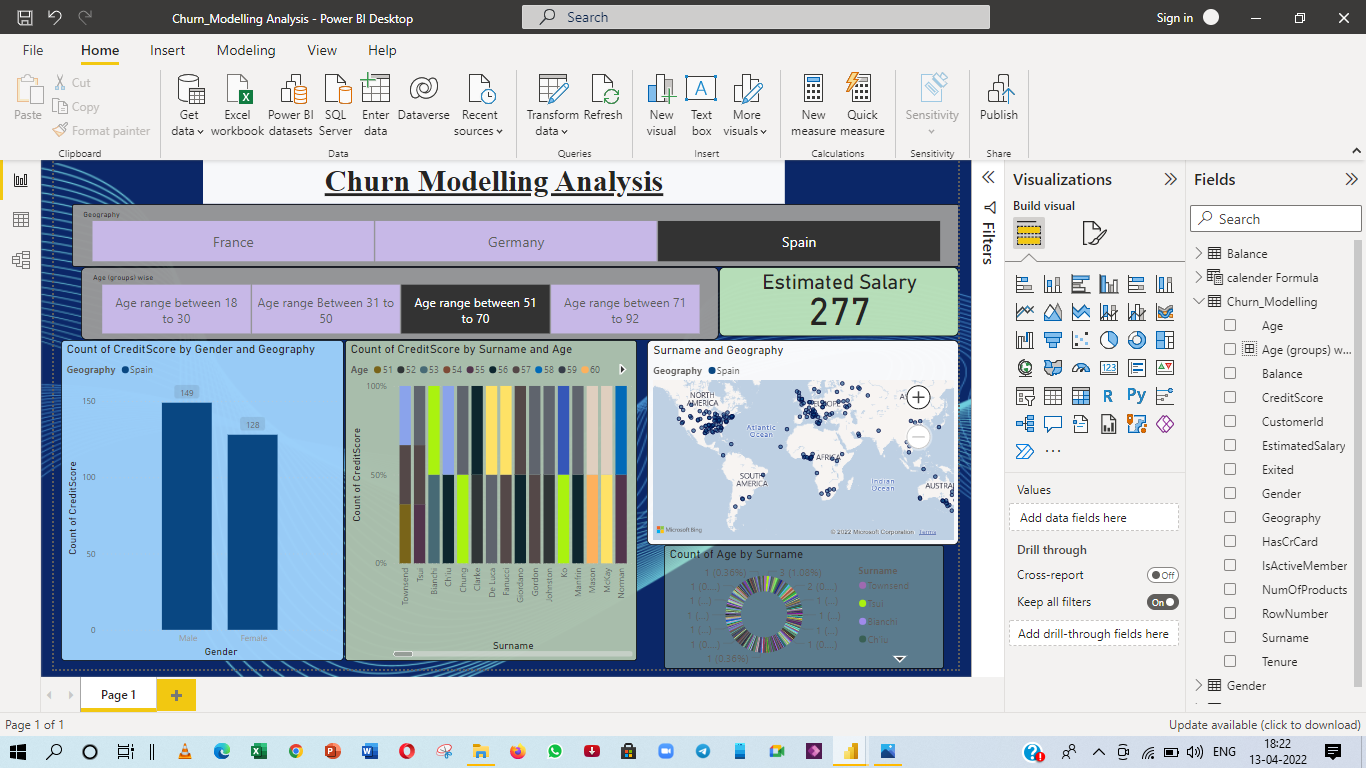

The page's visual inventory and layout, read from the dashboard file:
{"tool":"powerbi","page":{"name":"Page 1","canvas":[1280,720],"ordinal":0},"visuals":[{"type":"donutChart","fields":{"Category":["Churn_Modelling.Surname"],"Y":["Churn_Modelling.Age"]},"box":[862.9,544.6,396.1,175.4],"z":0},{"type":"card","title":"Estimated Salary","fields":{"Values":["Churn_Modelling.EstimatedSalary"]},"box":[940.7,151.4,339.5,97.6],"z":2000},{"type":"slicer","fields":{"Values":["Churn_Modelling.Age (groups) wise"]},"box":[38.2,151.4,902.5,103.3],"z":3000},{"type":"columnChart","fields":{"Category":["Churn_Modelling.Gender"],"Y":["Churn_Modelling.CreditScore"],"Series":["Churn_Modelling.Geography"]},"box":[9.9,254.6,400.3,454.1],"z":4000},{"type":"map","fields":{"Series":["Churn_Modelling.Geography"],"Category":["Churn_Modelling.Surname"]},"box":[838.8,254.6,441.3,290],"z":5000},{"type":"hundredPercentStackedColumnChart","fields":{"Category":["Churn_Modelling.Surname"],"Series":["Churn_Modelling.Age"],"Y":["Churn_Modelling.CreditScore"]},"box":[411.6,254.6,413,454.1],"z":6000},{"type":"textbox","box":[210.8,0,823.3,62.2],"z":6001},{"type":"slicer","fields":{"Values":["Churn_Modelling.Geography"]},"box":[25.5,62.2,1254.7,89.1],"z":6002}]}

Visuals, with their boxes on the page's 1280x720 design canvas (x1, y1, x2, y2). These are canvas units, not pixel positions in the 1366x768 screenshot, which may show the page scaled, cropped or inside an application window:
donutChart - Churn_Modelling.Surname x Churn_Modelling.Age: l=863, t=545, r=1259, b=720
"Estimated Salary" card: l=941, t=151, r=1280, b=249
slicer - Churn_Modelling.Age (groups) wise: l=38, t=151, r=941, b=255
columnChart - Churn_Modelling.Gender x Churn_Modelling.CreditScore: l=10, t=255, r=410, b=709
map - Churn_Modelling.Geography x Churn_Modelling.Surname: l=839, t=255, r=1280, b=545
hundredPercentStackedColumnChart - Churn_Modelling.Surname x Churn_Modelling.Age: l=412, t=255, r=825, b=709
textbox: l=211, t=0, r=1034, b=62
slicer - Churn_Modelling.Geography: l=26, t=62, r=1280, b=151
